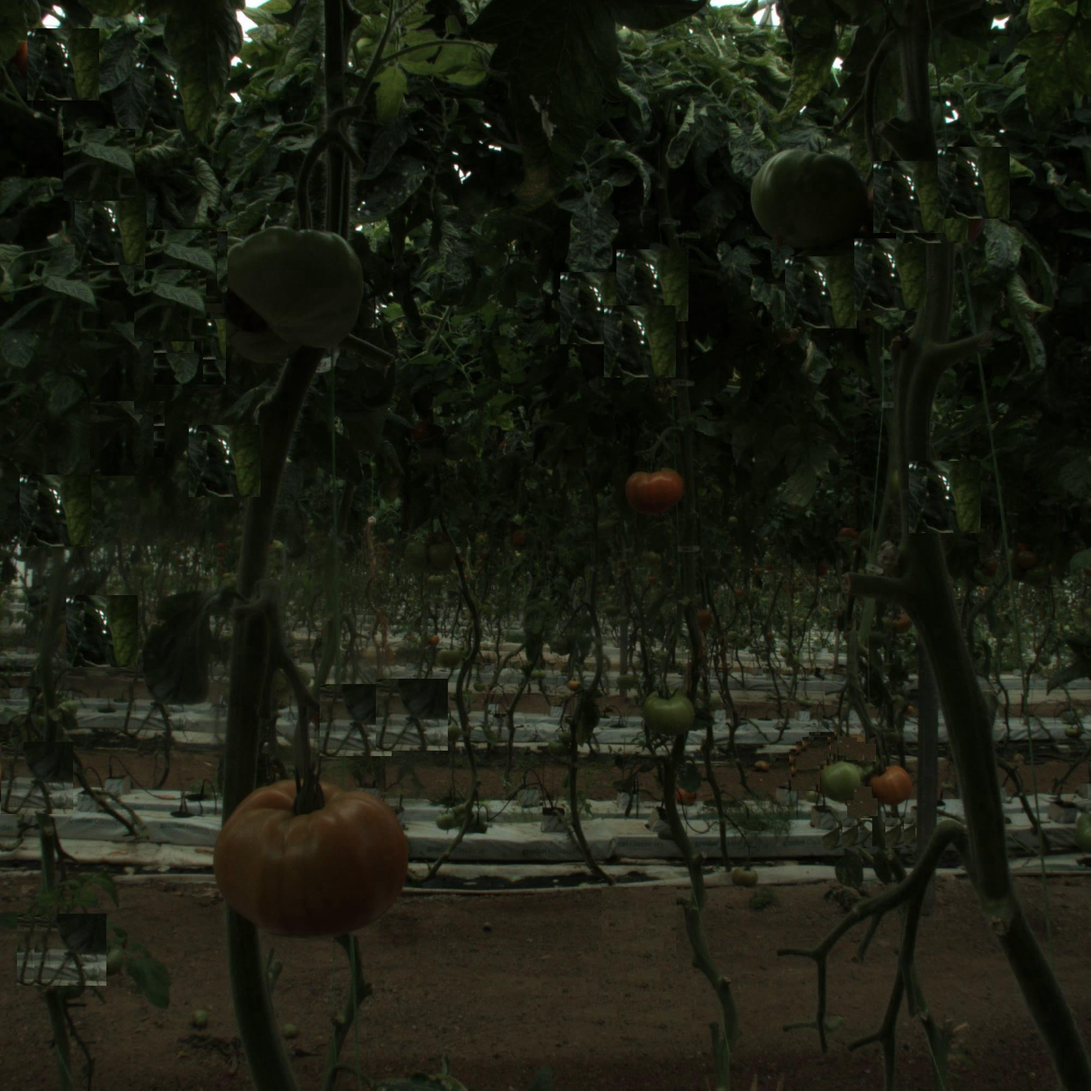['unripe', 'semi-ripe', 'fully-ripe']: (227, 221, 363, 357), (760, 145, 863, 248), (642, 681, 697, 735), (823, 763, 862, 802)
